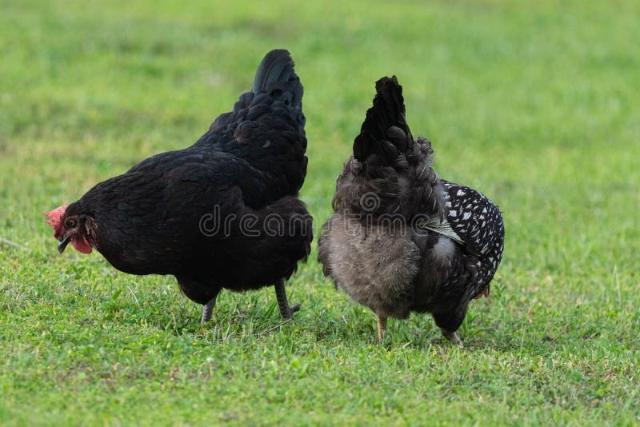Chicken: (45, 49, 314, 323), (318, 73, 504, 345)
